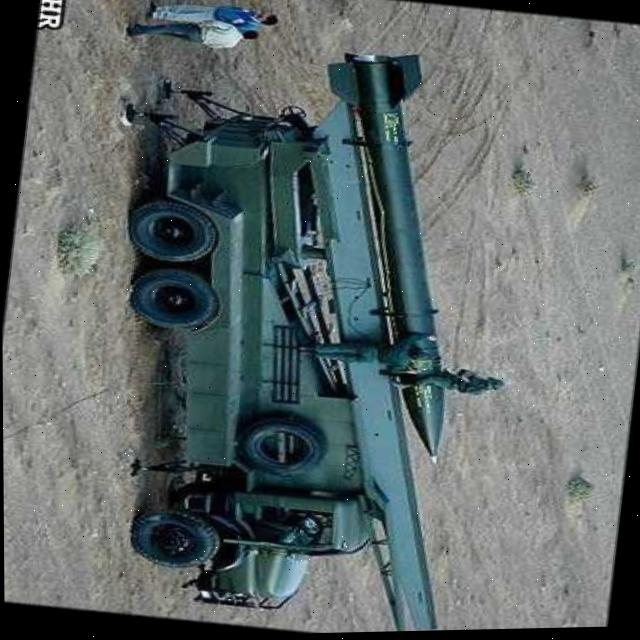missile: (280, 46, 492, 469)
